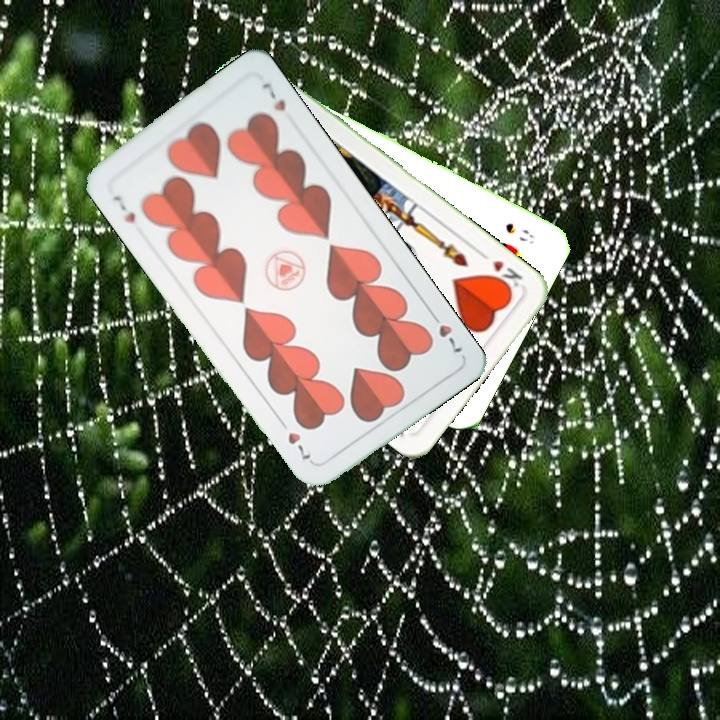H7: (425, 306, 465, 356), (108, 191, 138, 226)
HK: (475, 247, 525, 294)
S8: (501, 219, 537, 247)
